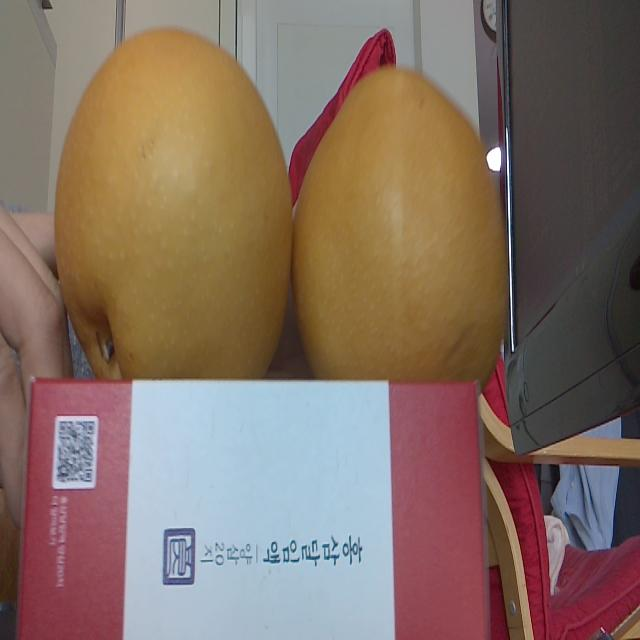pear: (55, 28, 295, 380), (291, 65, 509, 390)
